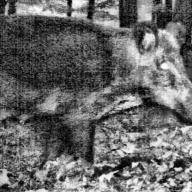boar: (6, 8, 192, 155)
